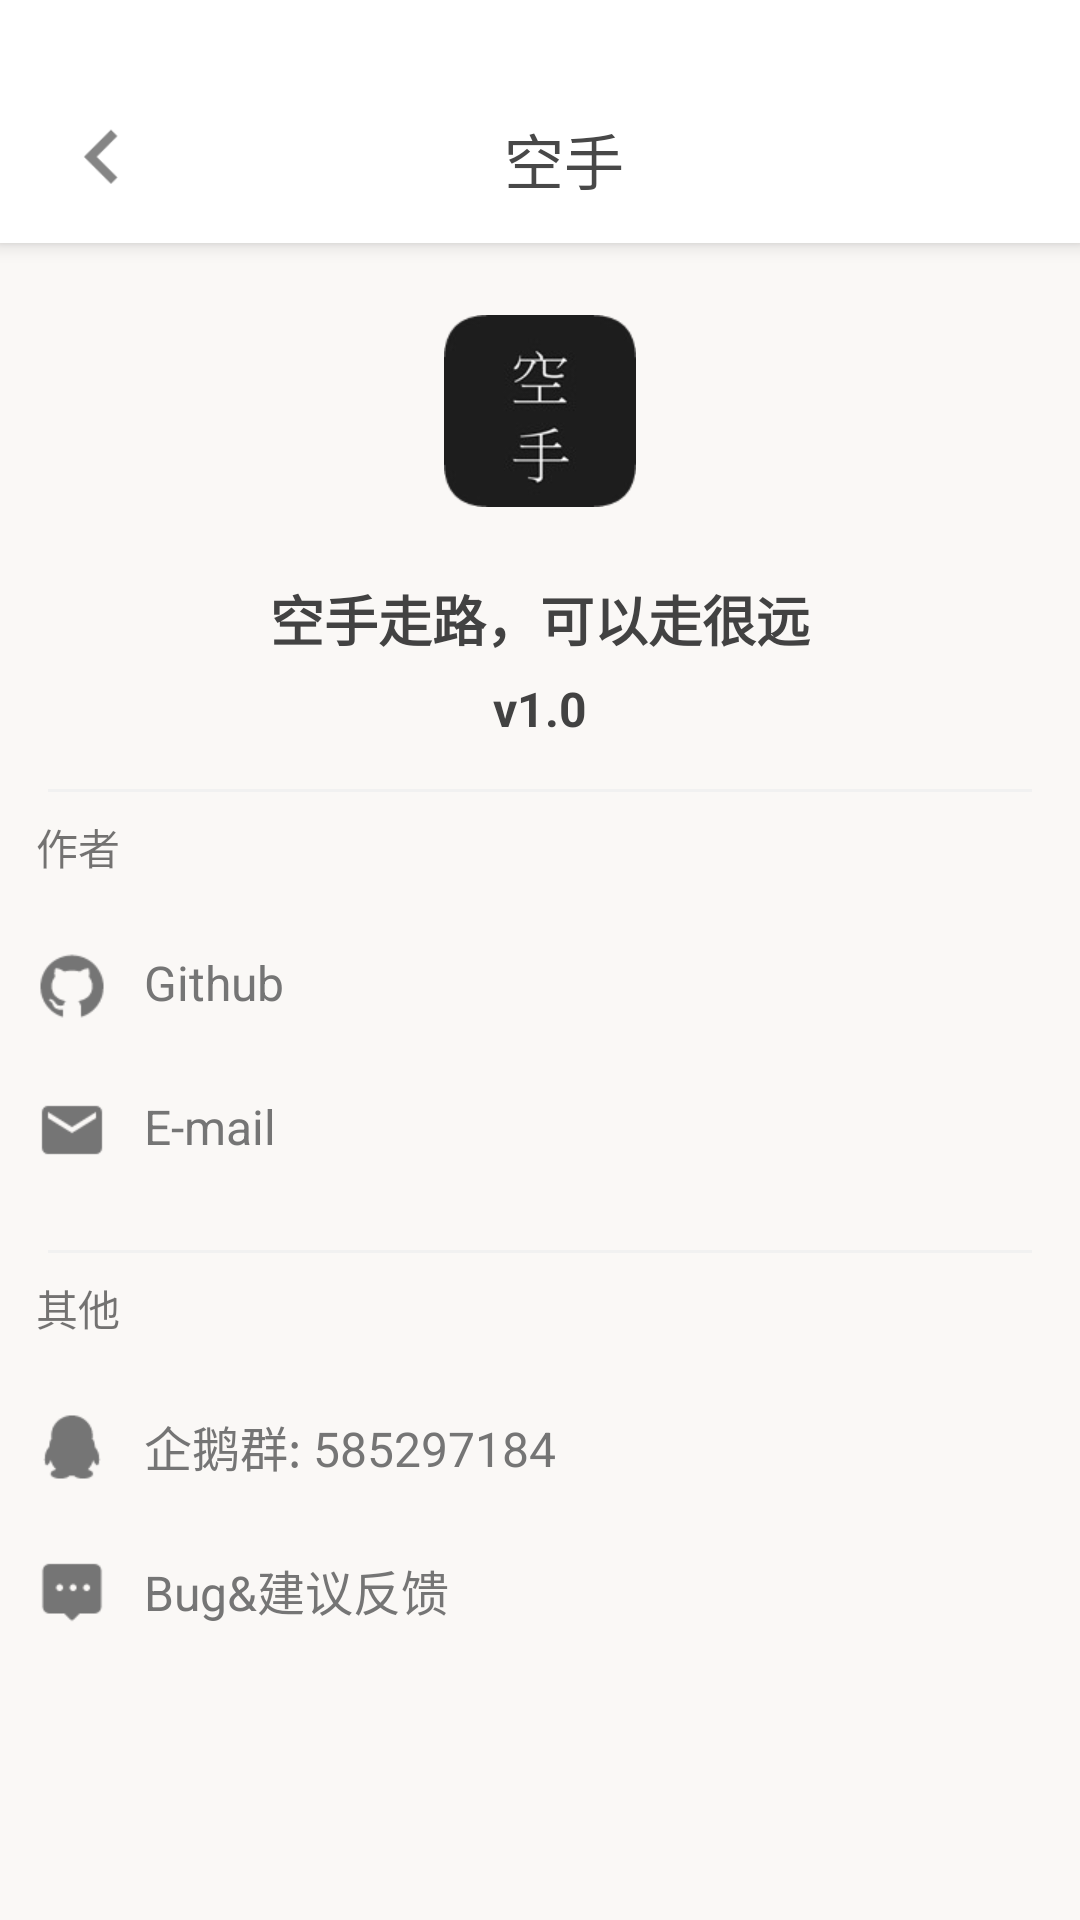

Locate icon controls on the screen. Image size 1080px×1920px, boxes as (x1, y1, x2, y2).
left: (84, 130, 118, 184)
